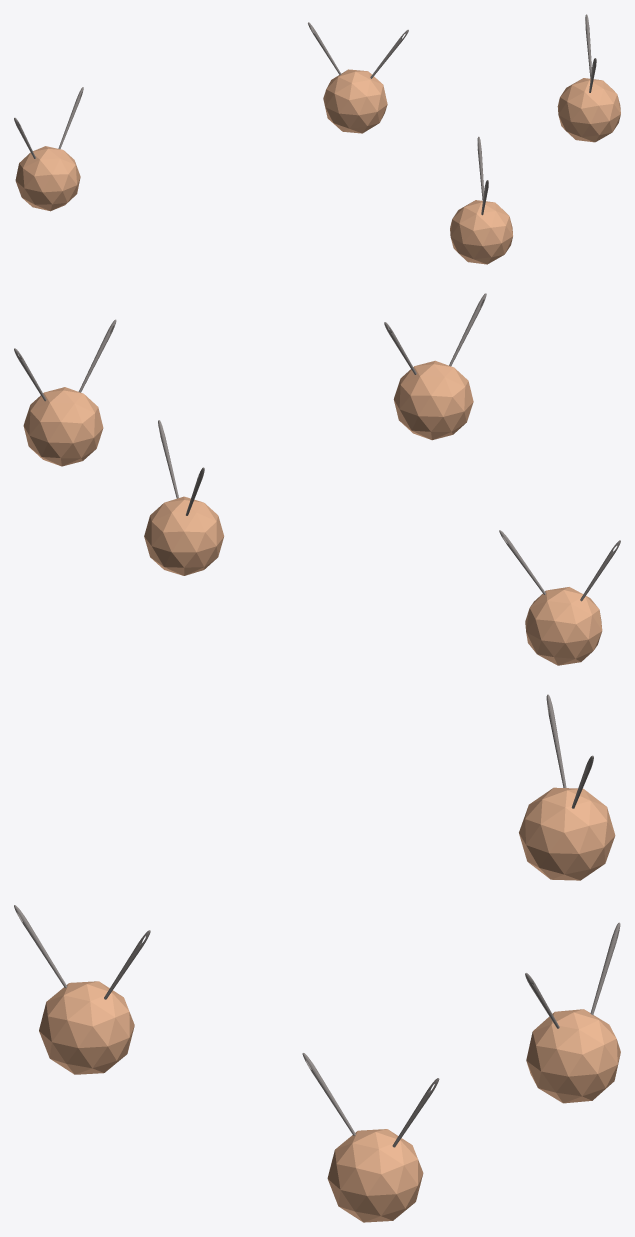
File: Estambre Race.fbx
3 renders of one model, top to bottom at view 1: azimuth 30°, elevation 25°; view 2: azimuth 150°, elevation 25°; view 3: azimuth 270°, elevation 25°, orthographic. The views are drawn at different scales.
Visible parts, largest first — view 1: Bolitas de Estambre; view 2: Bolitas de Estambre; view 3: Bolitas de Estambre.
Boxes of the visible parts, box(x1,y1,x2,y2) form: Bolitas de Estambre: box(14, 14, 620, 264); Bolitas de Estambre: box(14, 293, 620, 665); Bolitas de Estambre: box(14, 694, 620, 1222).
Size of the model in its own units: 29251 by 5412 by 19202.
